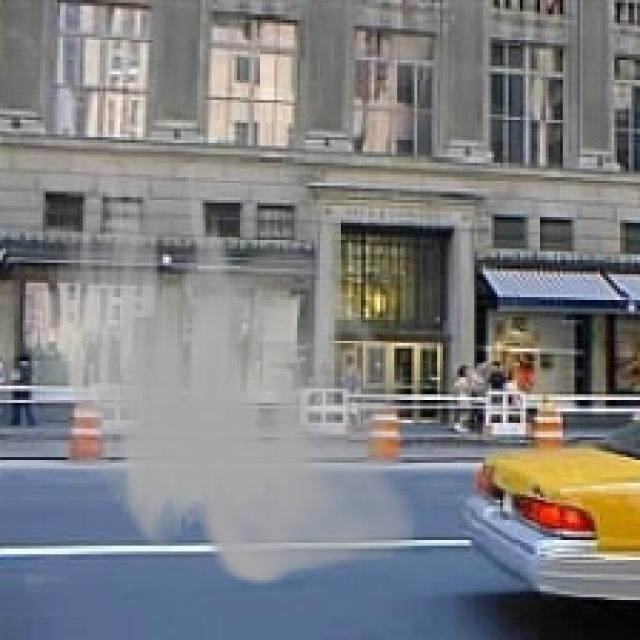smoke: (37, 160, 417, 586)
